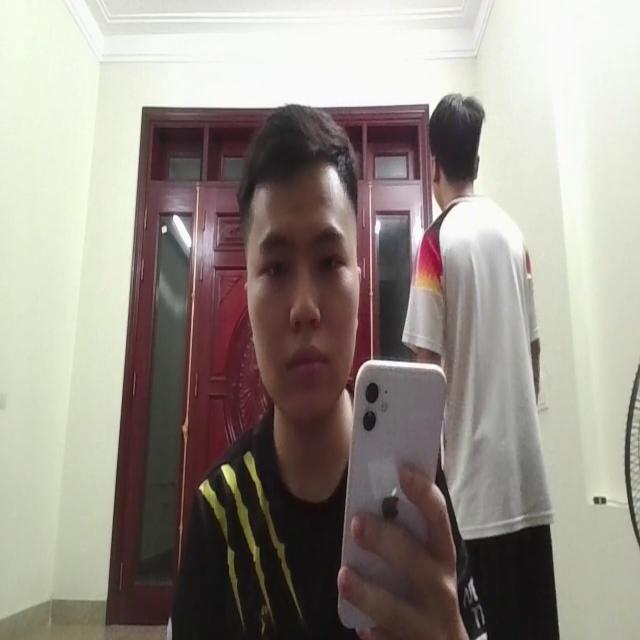extra_person: (408, 84, 554, 592)
phone: (344, 338, 444, 630)
student: (164, 101, 464, 640)
